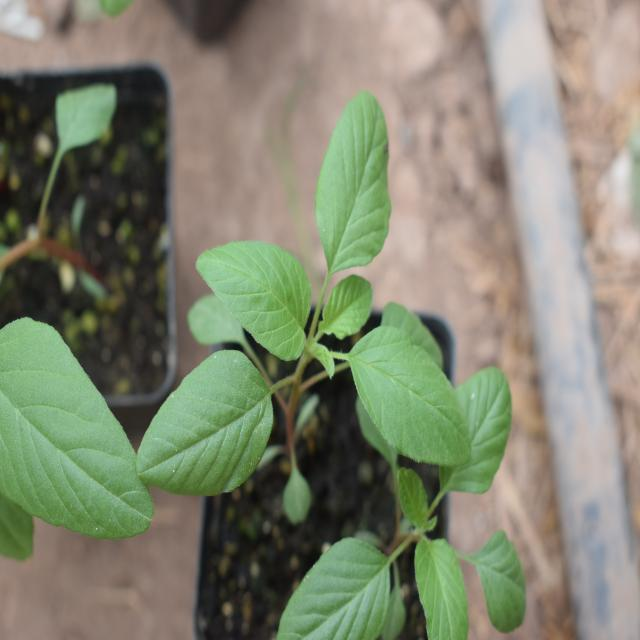pigweed: (144, 107, 474, 482)
